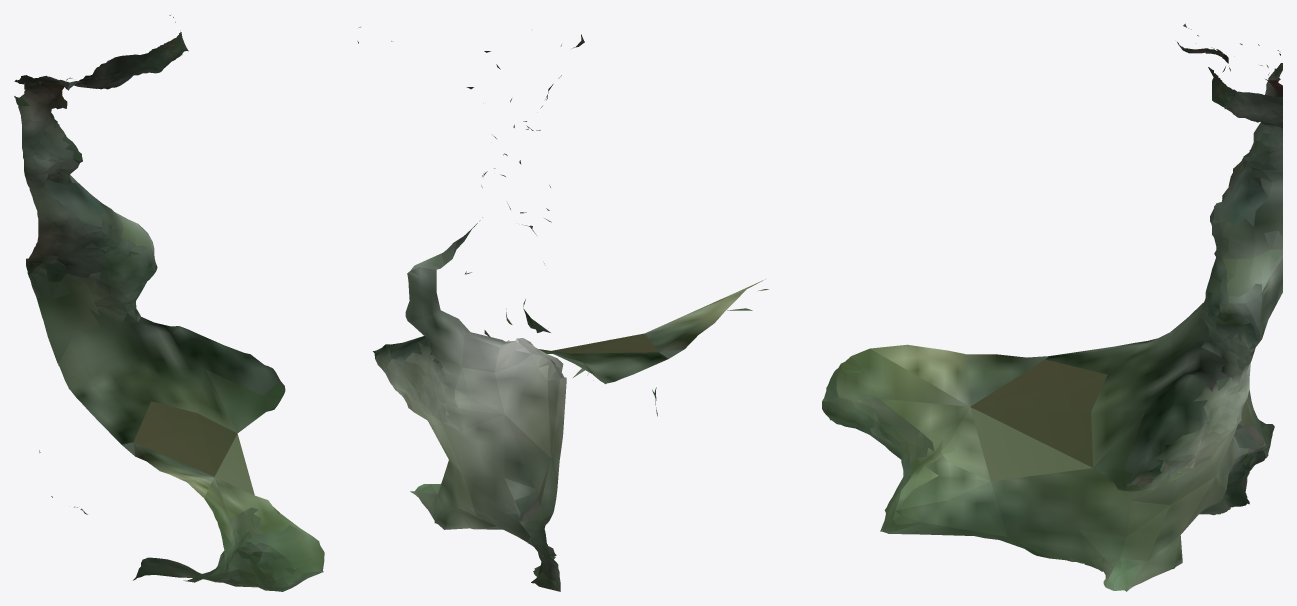
The picture shows the model from 3 angles, left to right: view 1: azimuth 30°, elevation 25°; view 2: azimuth 150°, elevation 25°; view 3: azimuth 270°, elevation 25°; orthographic projection. The views are drawn at different scales.
Size of the model in its own units: 0.2351 by 0.4915 by 0.426.
Materials: 1 (1 with a texture image).
